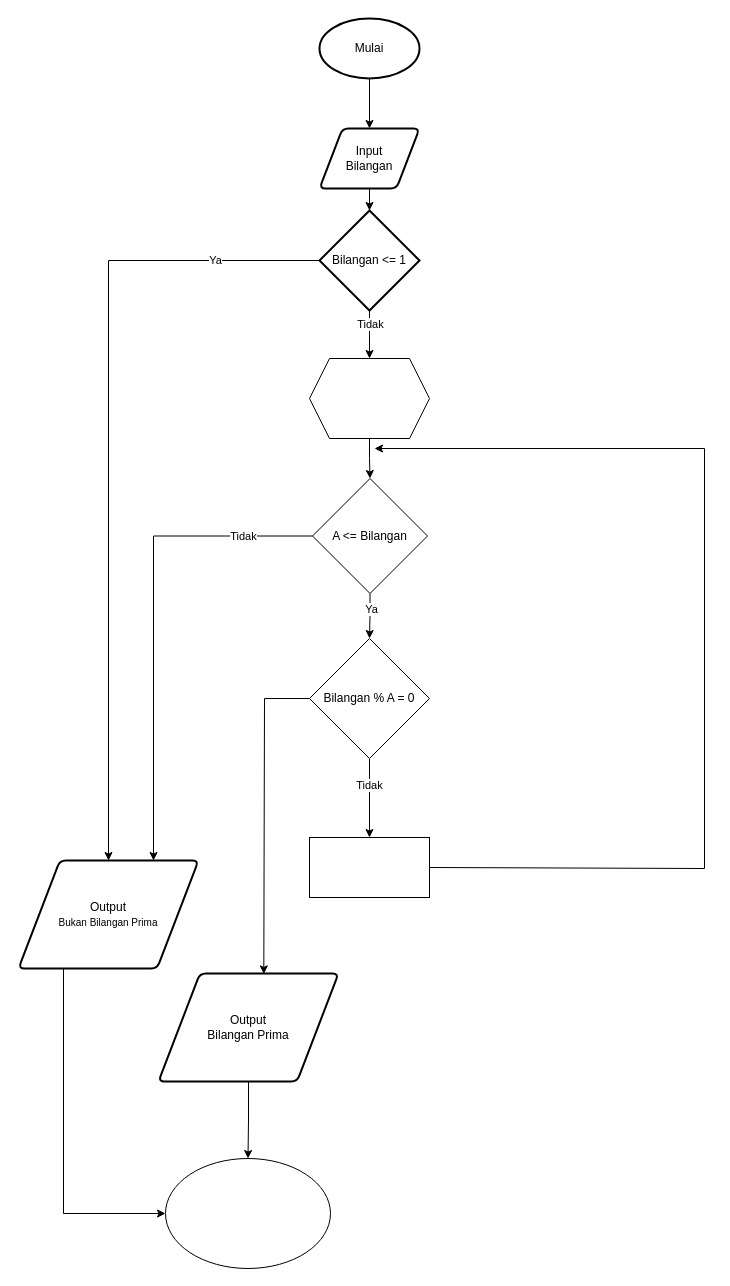
Some shapes in this 730 by 1286 pixel diagram are drawn without their labels. Each missing label, with the centre of its shape:
"A = 2" goes at pixel 369 398.
"A = A + 1" goes at pixel 369 867.
"Selesai" goes at pixel 247 1213.
